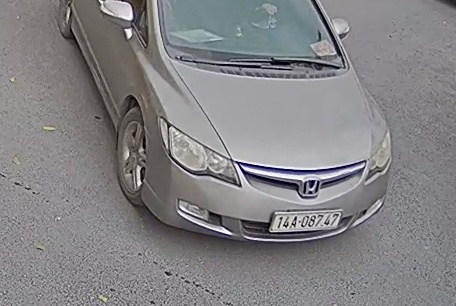vehicle plate: (271, 204, 343, 232)
